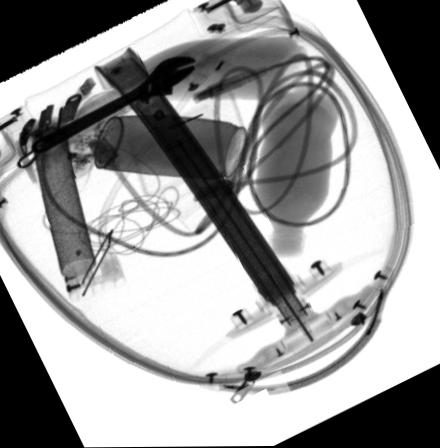Wrench: (31, 55, 196, 153)
